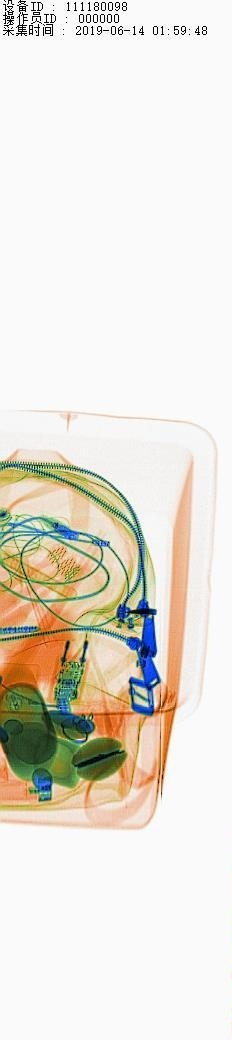NonmetallicFire: (0, 774, 74, 810)
